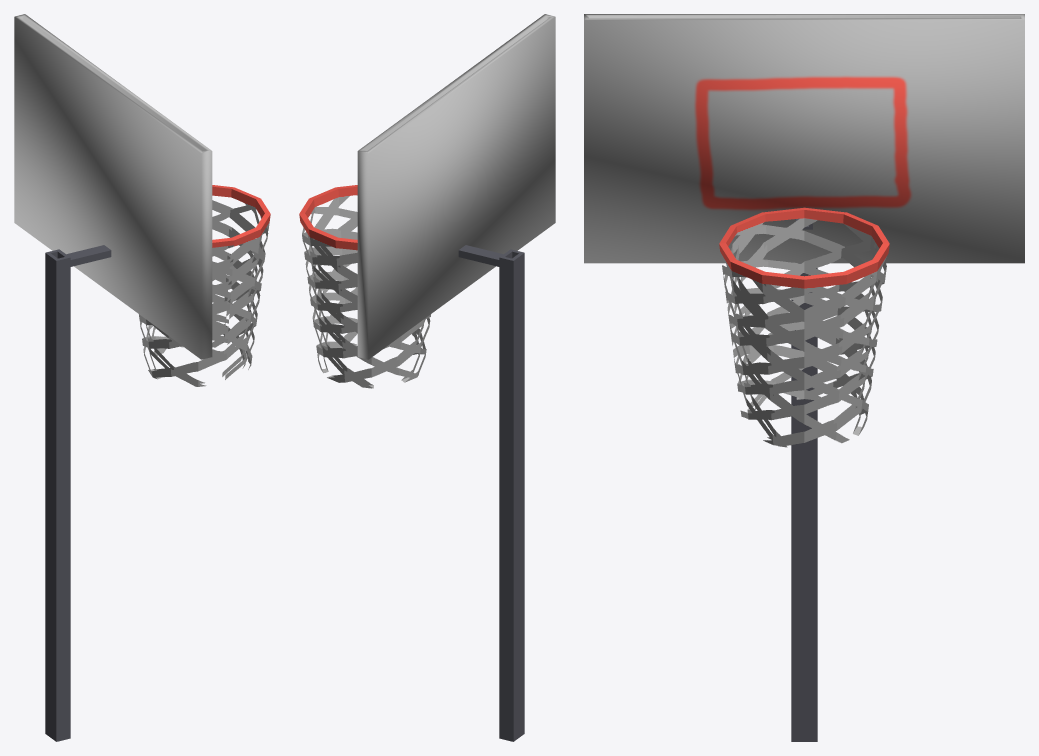
The model's file is canasta_CON-palo.fbx.
The picture shows the model from 3 angles, left to right: view 1: azimuth 30°, elevation 25°; view 2: azimuth 150°, elevation 25°; view 3: azimuth 270°, elevation 25°; orthographic projection. The views are drawn at different scales.
Visible parts, largest first — view 1: Plane.001; view 2: Plane.001; view 3: Plane.001.
Boxes of the visible parts, x1,y1,x2,y2 form: Plane.001: (14,14,270,741); Plane.001: (299,14,555,741); Plane.001: (584,14,1024,741).
Bounding box in the file's own units: 335 × 973 × 517.
